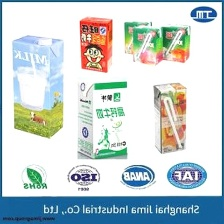carton: (9, 32, 68, 140), (74, 73, 131, 160), (151, 79, 190, 154), (76, 12, 116, 74), (130, 24, 162, 67), (122, 16, 153, 58), (161, 22, 193, 62)
